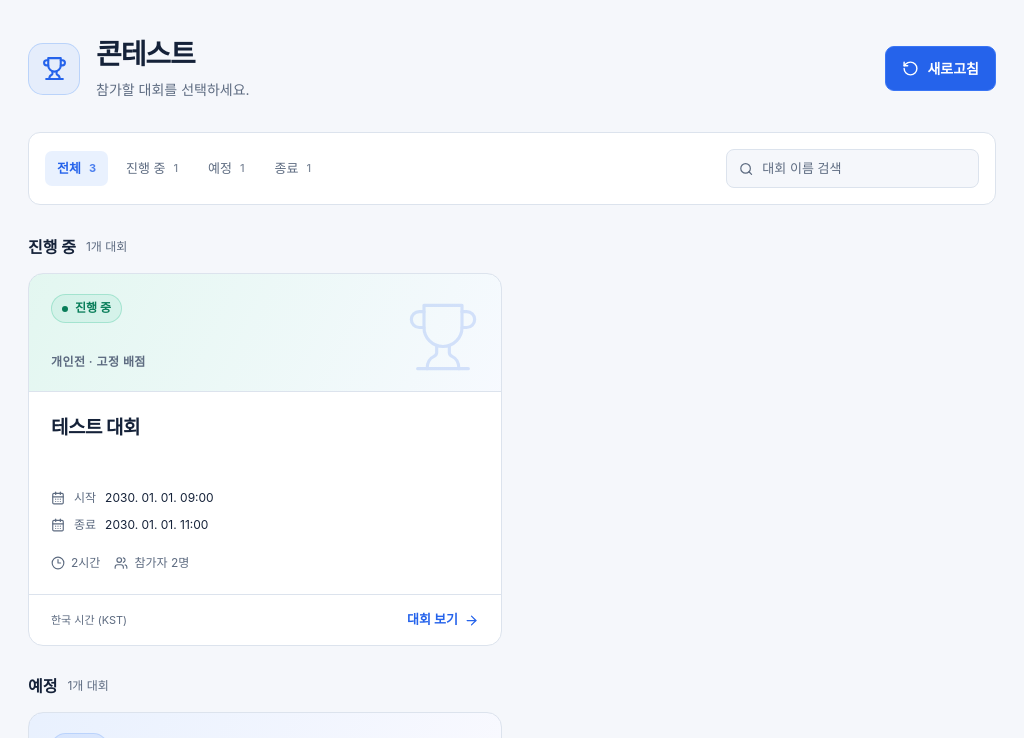
Test: contest pages › renders multiple contest cards, filters and searches without changing the selected contest
The width and height of the screenshot is (1024, 738).
Step 1. Click the button "예정 1" → (226, 169), box x1=196 y1=151 x2=256 y2=186
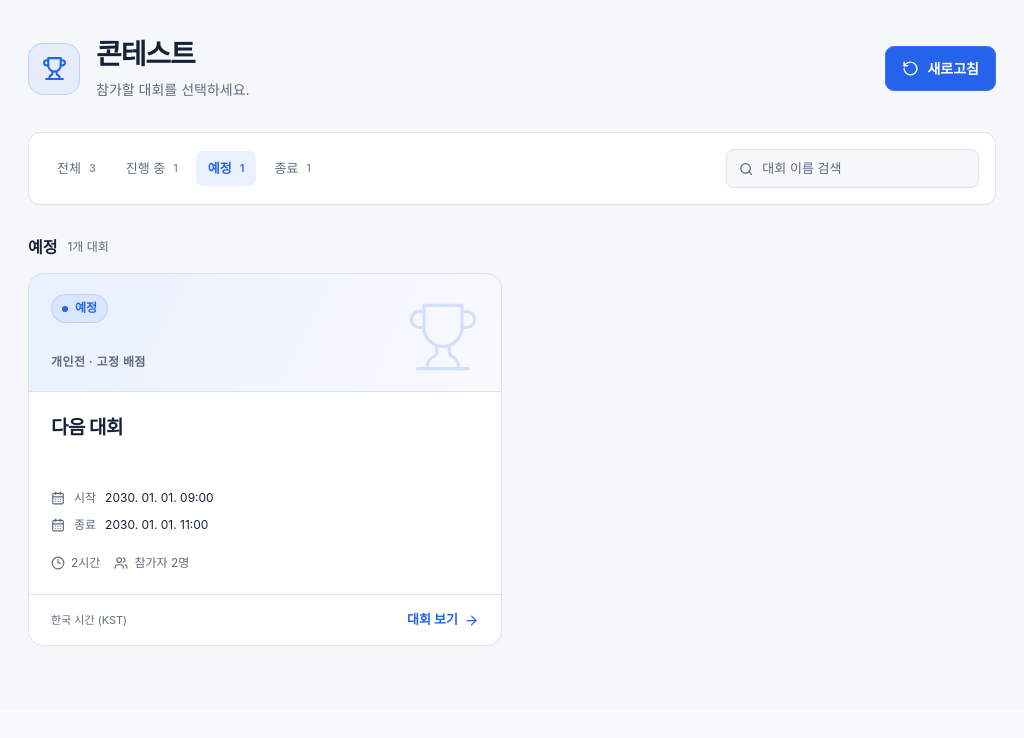
Step 2. Click the button "전체 3" → (76, 169), box x1=45 y1=151 x2=108 y2=186
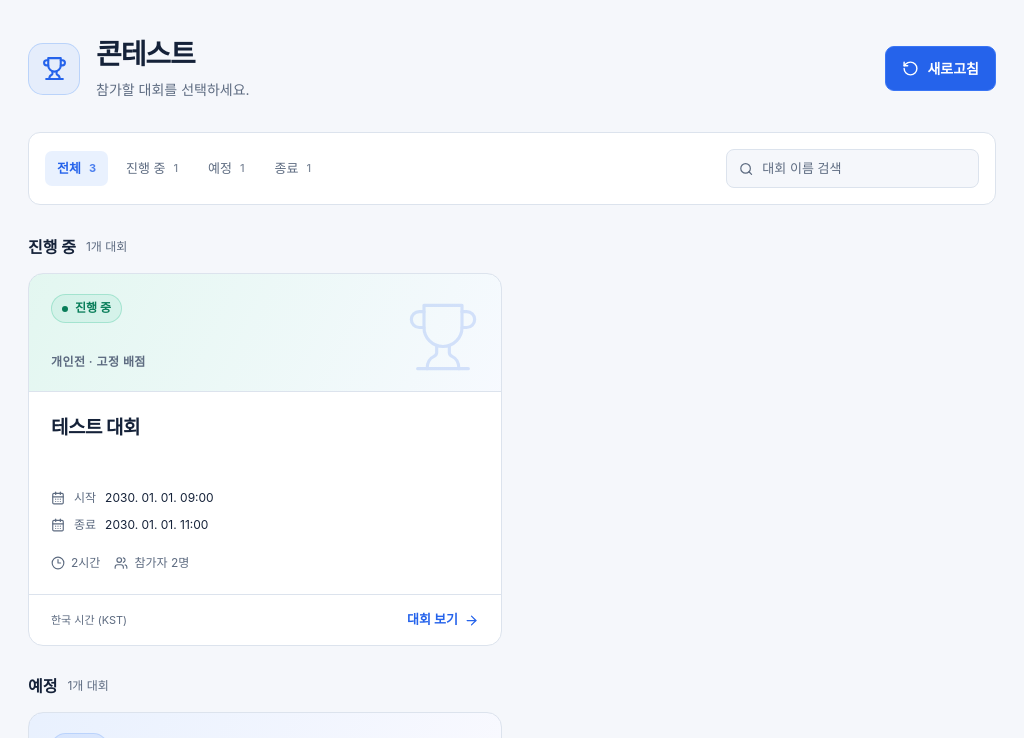
Step 3. Type "지난" into the search field named "대회 검색" → (864, 169), box x1=762 y1=159 x2=966 y2=178
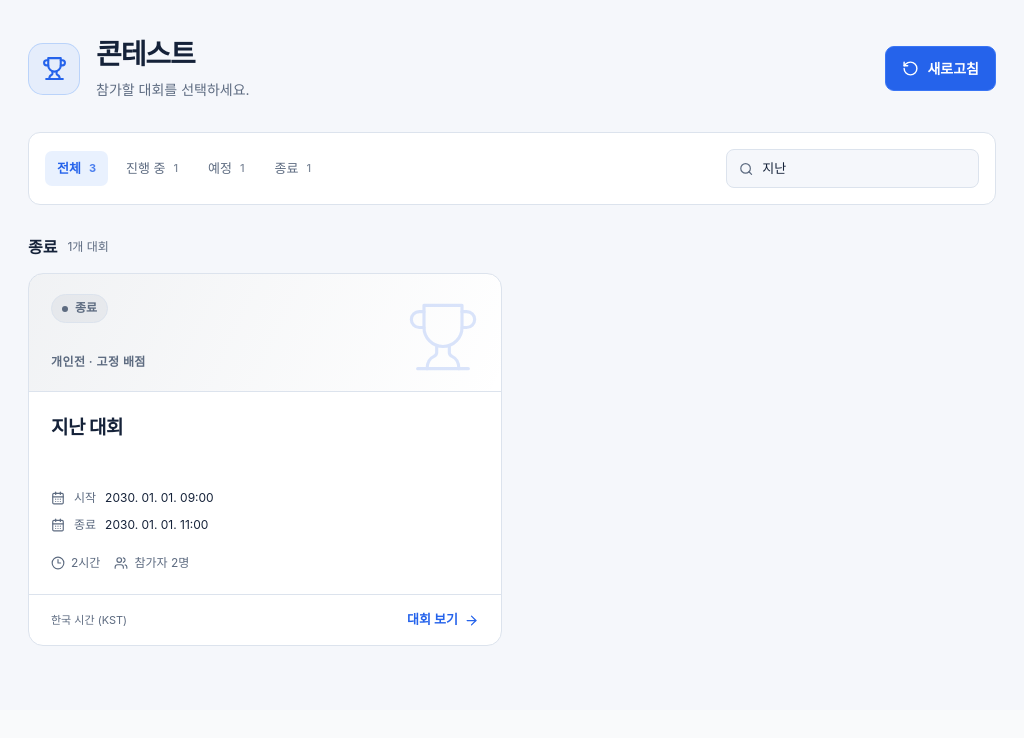
Check: the link "지난 대회" has attribute href="/contests/past", box x1=28 y1=273 x2=502 y2=646
Step 4. Replace the text in the search field with "없음" → (864, 169), box x1=762 y1=159 x2=966 y2=178
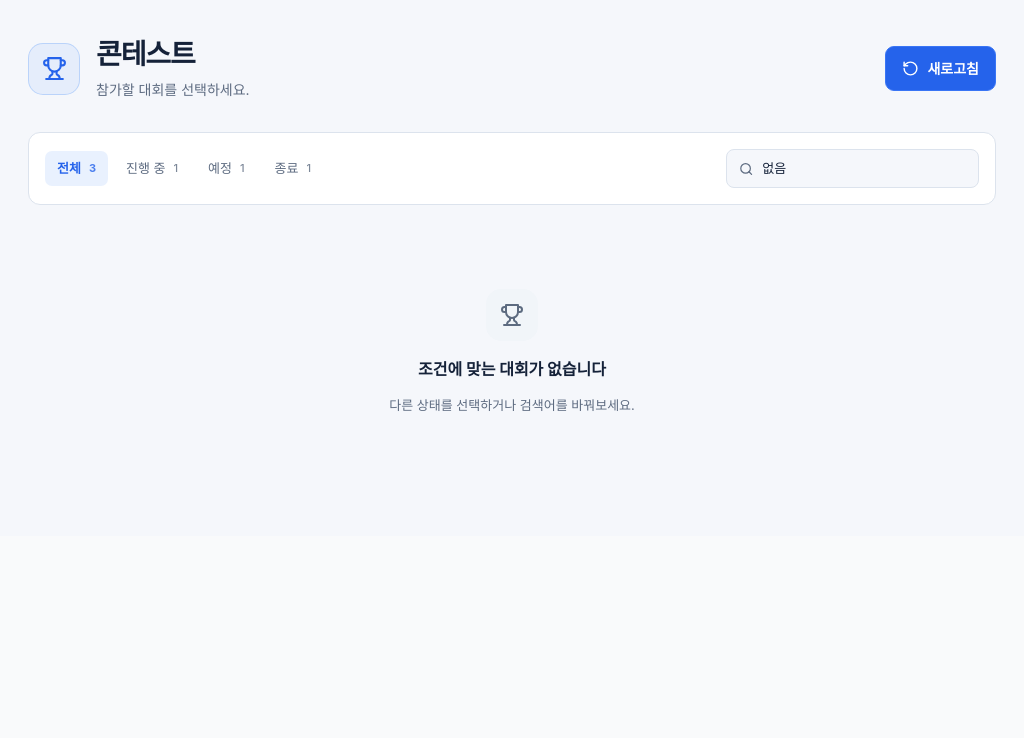
Check: the heading "조건에 맞는 대회가 없습니다" is shown, box x1=418 y1=357 x2=606 y2=381
